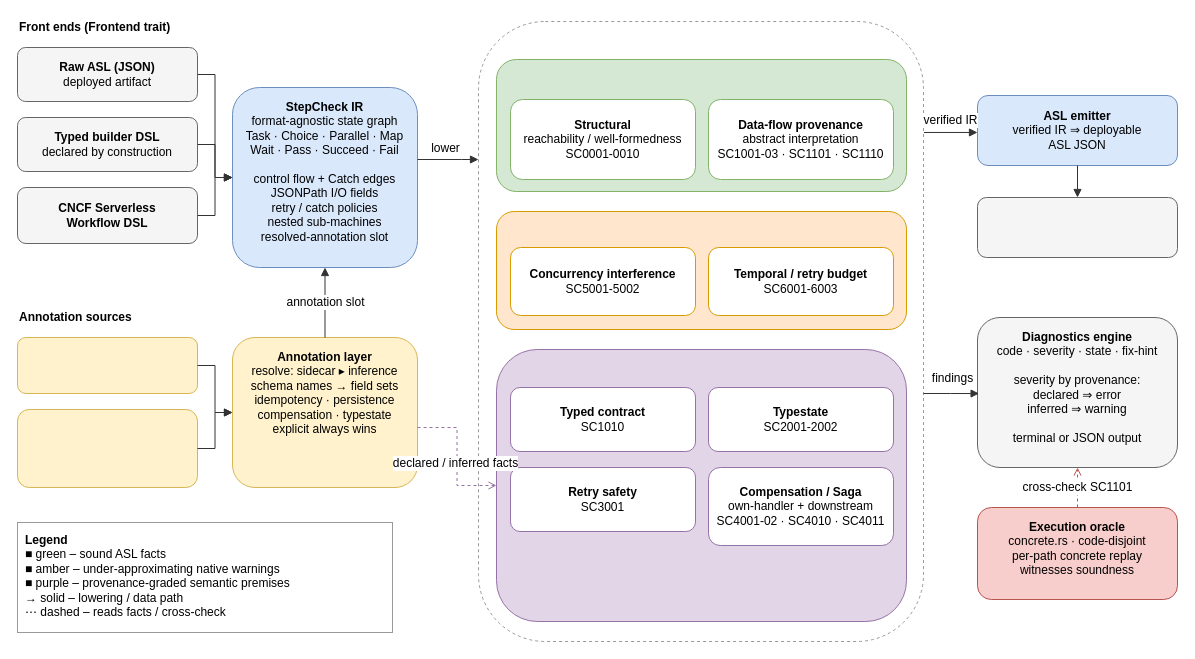
The diagram is 1195 pixels wide and 659 high, and some of its shapes have lost their labels. The box of each missing label's shape, as (x1, y1, x2, y2) in pixels:
AWS Step Functions runs unmodified: (976, 196, 1178, 258)
Inference naming / resource conventions ⇒ warnings: (16, 408, 198, 488)
NATIVE FACTS · CONSERVATIVE AWS-resource / temporal warnings: (496, 210, 906, 330)
NATIVE FACTS · SOUND ASL-only · no false positives: (496, 58, 906, 192)
Pass manager · one deployed-artifact IR · eight provenance-graded passes: (478, 20, 924, 642)
SEMANTIC PREMISES declared ⇒ error · inferred ⇒ warning: (496, 348, 906, 622)
Sidecar (TOML) declared ⇒ errors: (16, 336, 198, 394)
